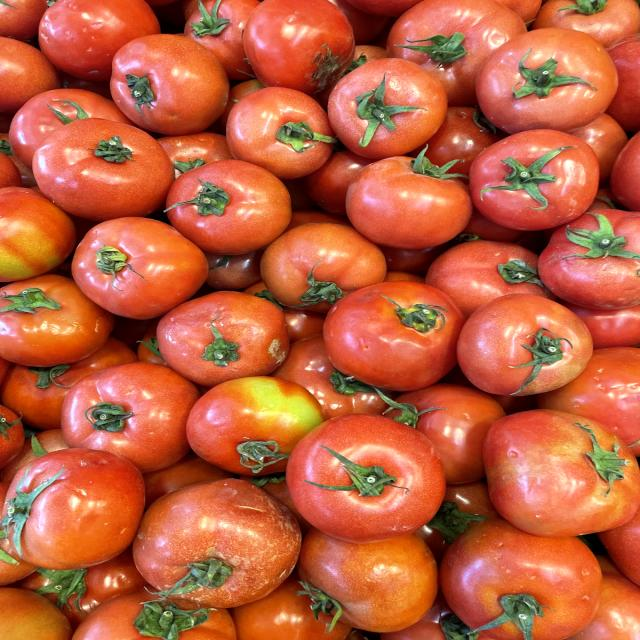tomato: (255, 410, 452, 541), (120, 470, 308, 606), (464, 404, 640, 537), (442, 284, 614, 400), (45, 350, 207, 472), (316, 262, 464, 392), (457, 122, 620, 235), (29, 102, 175, 228), (61, 207, 216, 325), (467, 17, 621, 131), (154, 145, 306, 258), (147, 277, 296, 386), (91, 36, 241, 139), (340, 143, 479, 253), (319, 52, 457, 159)
